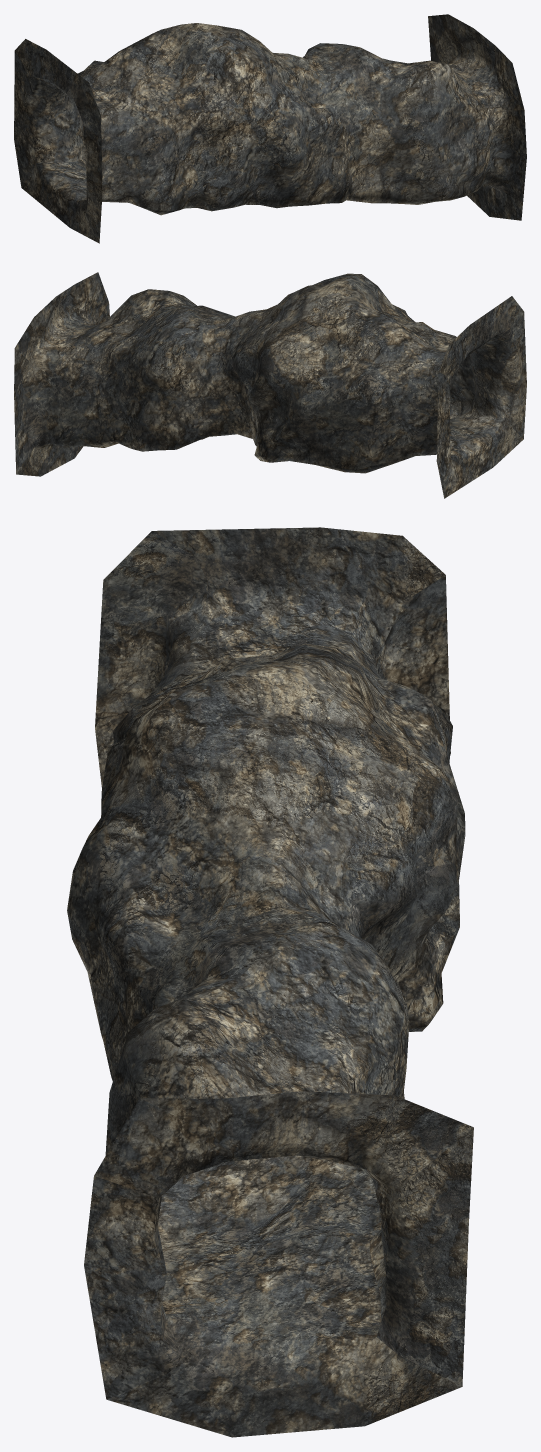
Rendered from Module5.fbx.
3 renders of one model, top to bottom at view 1: azimuth 30°, elevation 25°; view 2: azimuth 150°, elevation 25°; view 3: azimuth 270°, elevation 25°, orthographic. The views are drawn at different scales.
Visible parts, largest first — view 1: cave_el5_1400_Group31121; view 2: cave_el5_1400_Group31121; view 3: cave_el5_1400_Group31121.
Part boxes in pixels (x1,y1,x2,y2): cave_el5_1400_Group31121: (14,14,526,243); cave_el5_1400_Group31121: (14,272,526,498); cave_el5_1400_Group31121: (67,527,473,1437).
Size of the model in its own units: 20.67 by 11.57 by 8.48.
